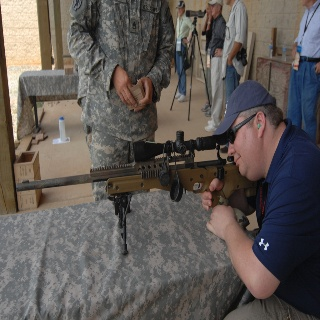rifle: (15, 130, 260, 255)
